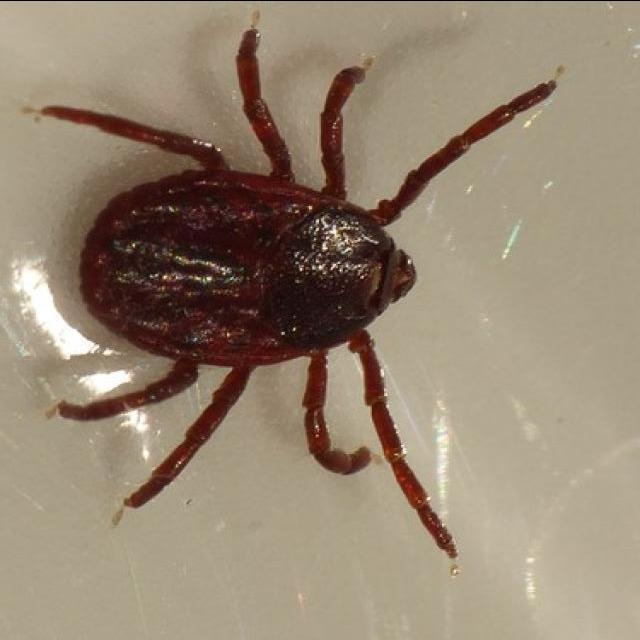Rhipicephalus Sanguineus-F: (36, 25, 555, 576)
